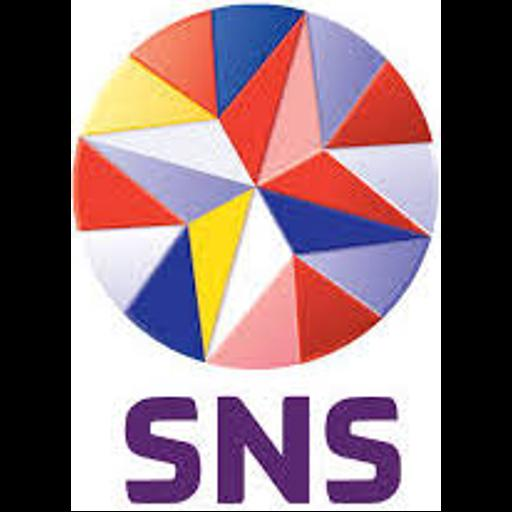SNS Bank N-V: (71, 0, 441, 511)
